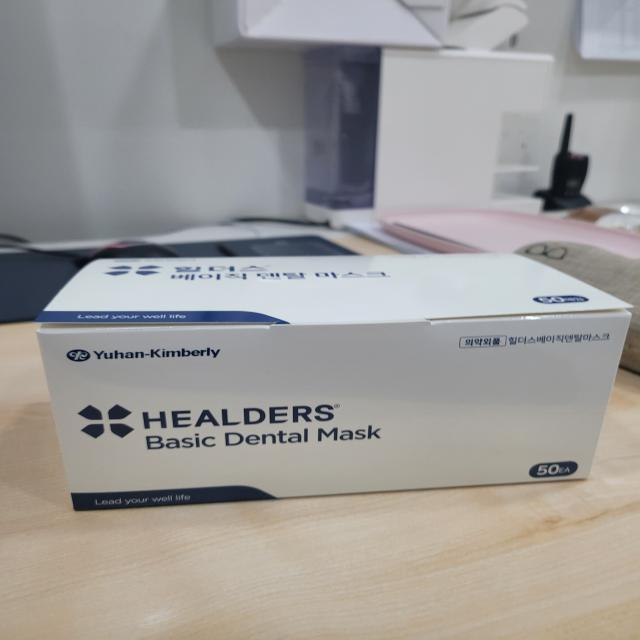mask: (19, 230, 640, 527)
